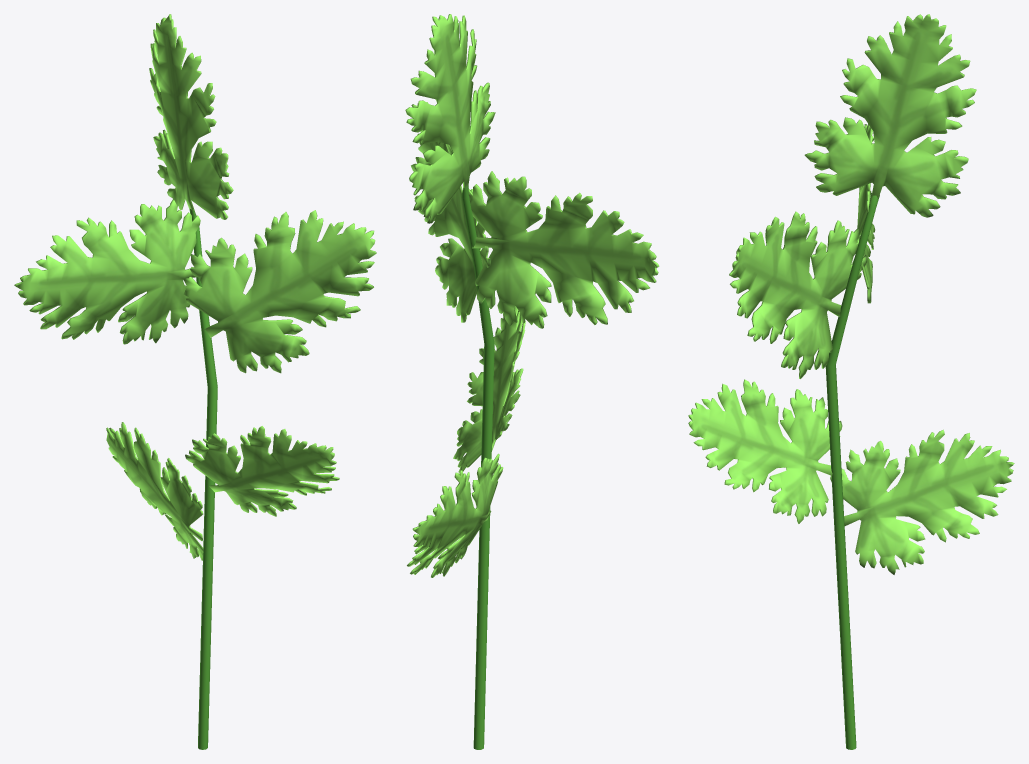
The model's file is korianteri.gltf.
The picture shows the model from 3 angles, left to right: view 1: azimuth 30°, elevation 25°; view 2: azimuth 150°, elevation 25°; view 3: azimuth 270°, elevation 25°; orthographic projection. The views are drawn at different scales.
Visible parts, largest first — view 1: Plane.007, Plane.004, Plane.003, Plane.002, Plane.001, Cylinder; view 2: Plane.004, Plane.003, Plane.001, Cylinder, Plane.002, Plane.007; view 3: Plane.003, Plane.001, Plane.007, Plane.002, Cylinder, Plane.004.
Boxes of the visible parts, x1=… form: Plane.007: x1=183, y1=210, x2=376, y2=373; Plane.004: x1=14, y1=200, x2=200, y2=344; Plane.003: x1=149, y1=14, x2=233, y2=219; Plane.002: x1=185, y1=426, x2=339, y2=516; Plane.001: x1=106, y1=422, x2=203, y2=560; Cylinder: x1=189, y1=209, x2=217, y2=749; Plane.004: x1=468, y1=171, x2=659, y2=328; Plane.003: x1=405, y1=14, x2=495, y2=223; Plane.001: x1=407, y1=453, x2=503, y2=577; Cylinder: x1=461, y1=185, x2=494, y2=749; Plane.002: x1=453, y1=306, x2=525, y2=472; Plane.007: x1=411, y1=102, x2=490, y2=322; Plane.003: x1=804, y1=14, x2=976, y2=217; Plane.001: x1=830, y1=429, x2=1014, y2=574; Plane.007: x1=729, y1=211, x2=867, y2=378; Plane.002: x1=688, y1=379, x2=842, y2=523; Cylinder: x1=825, y1=193, x2=879, y2=749; Plane.004: x1=857, y1=124, x2=875, y2=303.
Bounding box in the file's own units: 0.3971 × 0.9066 × 0.3643.
1 material, 1 textured.
